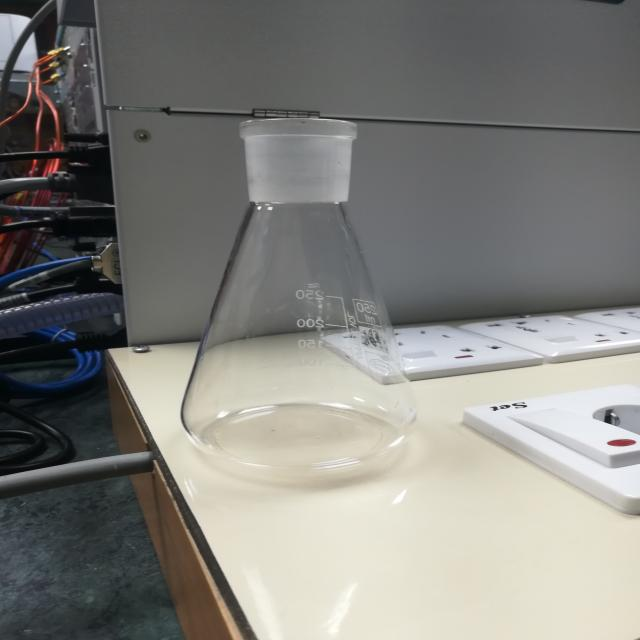Conical_Flask: (142, 79, 474, 501)
